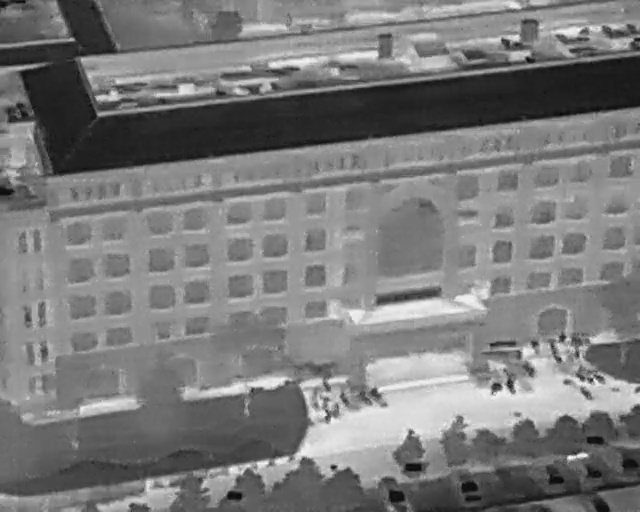Bicycle: (366, 384, 390, 412), (576, 382, 596, 404), (503, 373, 519, 397), (356, 389, 374, 409), (336, 389, 353, 410), (590, 369, 608, 387), (320, 375, 334, 395), (573, 368, 589, 385), (579, 330, 593, 349), (549, 350, 564, 366), (545, 338, 559, 353), (528, 337, 541, 353), (310, 391, 321, 409), (489, 382, 503, 396), (556, 329, 568, 344), (569, 331, 580, 347), (331, 402, 341, 419), (323, 409, 332, 425), (320, 394, 329, 410), (573, 346, 582, 359)
Car: (563, 443, 607, 489), (376, 472, 410, 511), (537, 455, 569, 496), (456, 471, 484, 505), (617, 454, 639, 477), (586, 491, 611, 510)
